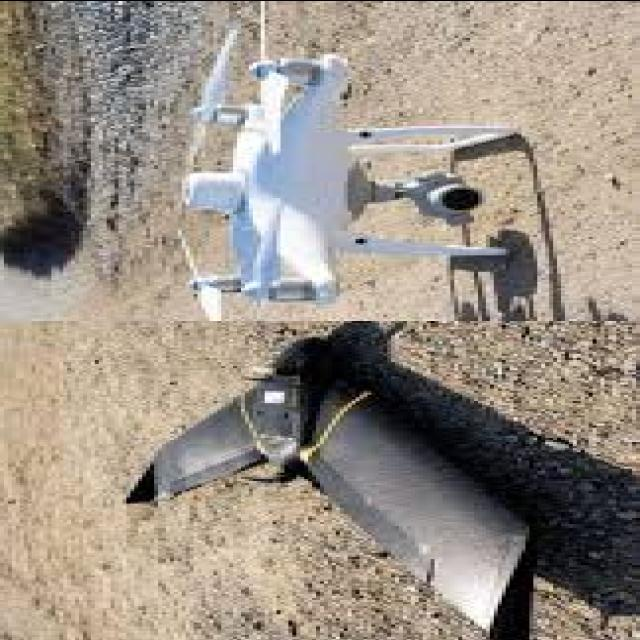drone: (158, 19, 540, 324)
